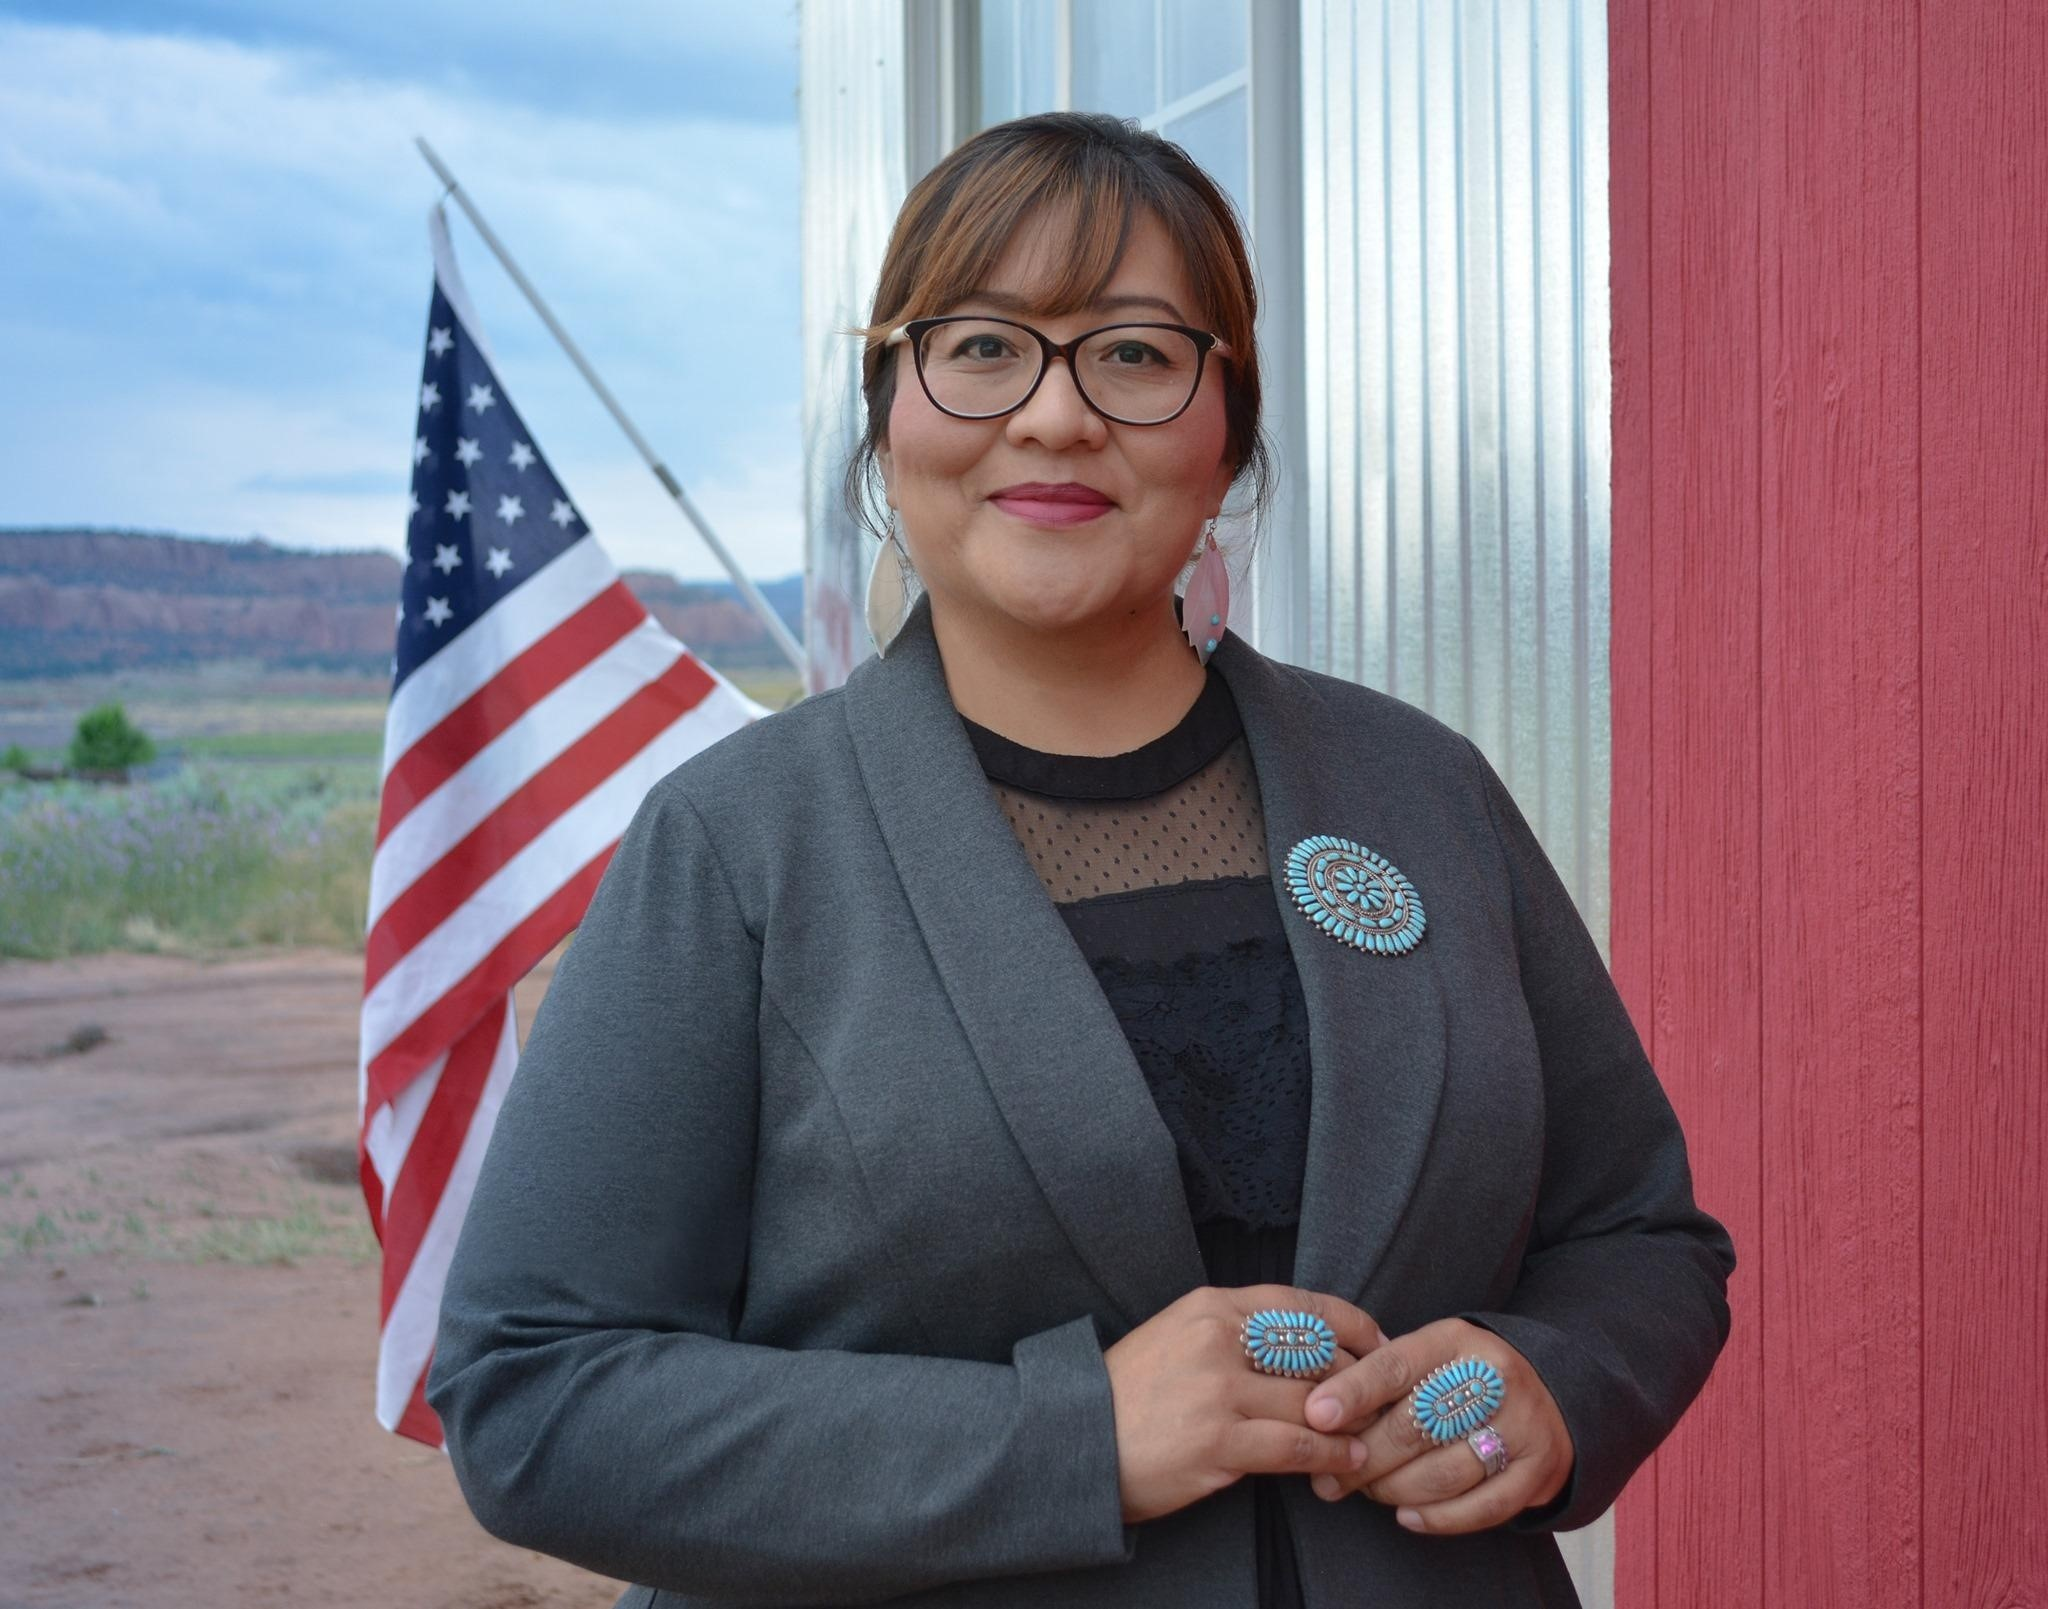face_no_mask: (865, 123, 1261, 638)
